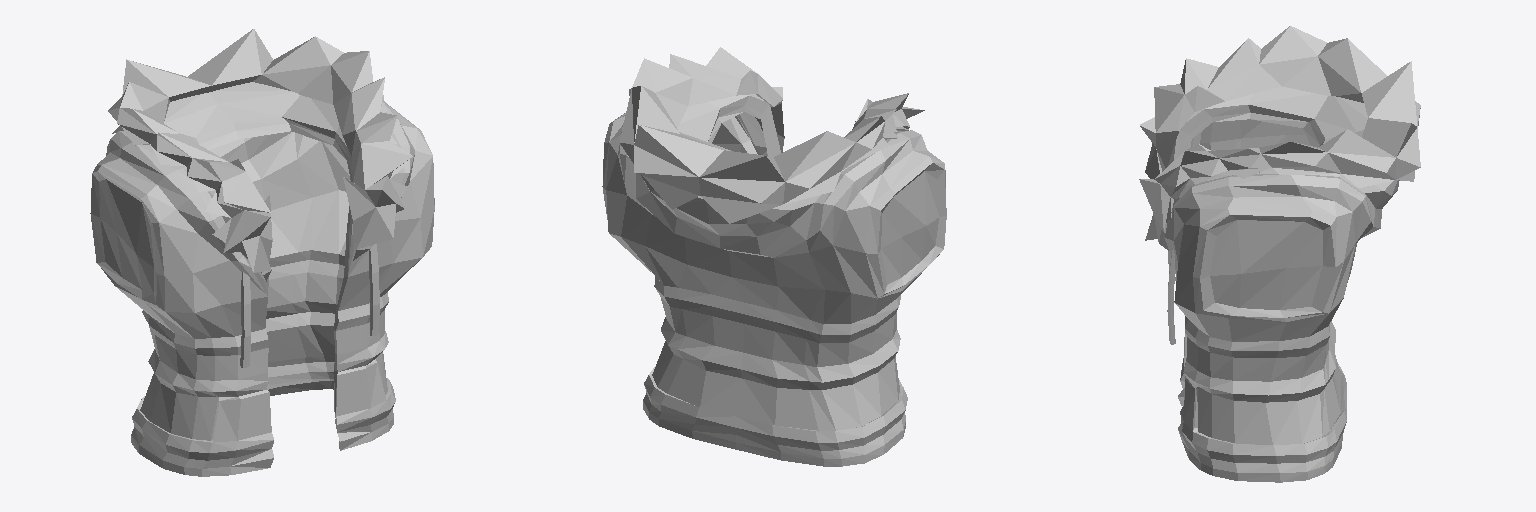
Rendered from hoodie.obj.
3 renders of one model, left to right at view 1: azimuth 30°, elevation 25°; view 2: azimuth 150°, elevation 25°; view 3: azimuth 270°, elevation 25°, orthographic.
Visible parts, largest first — view 1: hoodie; view 2: hoodie; view 3: hoodie.
Boxes of the visible parts, <box> form: hoodie: <box>90,29,434,476</box>; hoodie: <box>602,47,946,466</box>; hoodie: <box>1139,26,1420,482</box>.
Size of the model in its own units: 2.16 by 2.49 by 1.84.